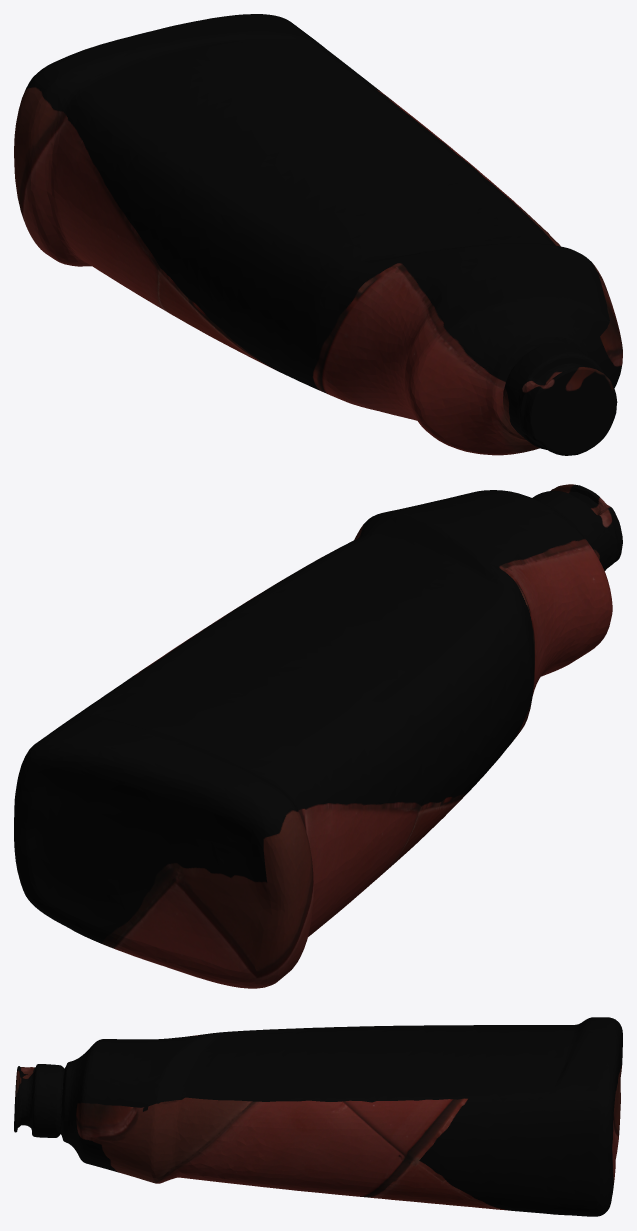
The picture shows the model from 3 angles, top to bottom: view 1: azimuth 30°, elevation 25°; view 2: azimuth 150°, elevation 25°; view 3: azimuth 270°, elevation 25°; orthographic projection. The views are drawn at different scales.
Bounding box in the file's own units: 0.0986 × 0.0685 × 0.2538.
